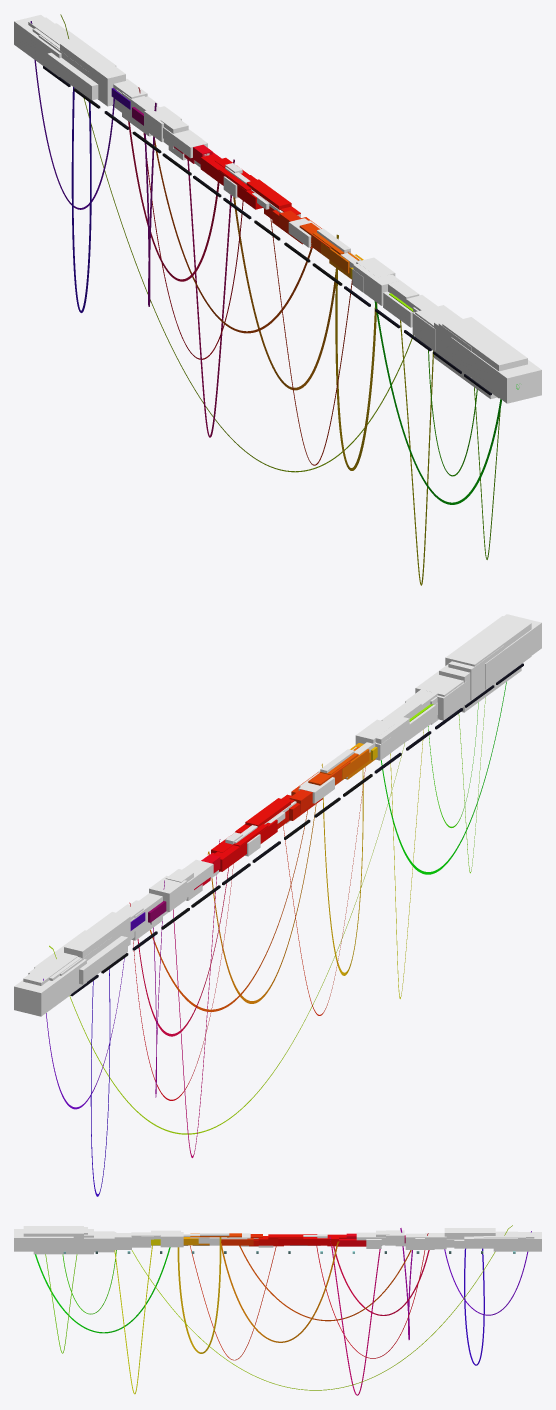
The model's file is Bridge_Baked_0.fbx.
The picture shows the model from 3 angles, top to bottom: view 1: azimuth 30°, elevation 25°; view 2: azimuth 150°, elevation 25°; view 3: azimuth 270°, elevation 25°; orthographic projection. The views are drawn at different scales.
Visible parts, largest first — view 1: Base, Cables, Crystals, Frames; view 2: Base, Cables, Crystals, Frames; view 3: Base, Cables, Crystals.
Boxes of the visible parts, box(x1,y1,x2,y2) form: Base: box(14, 15, 541, 403); Cables: box(30, 14, 501, 585); Crystals: box(111, 88, 519, 389); Frames: box(43, 66, 491, 395); Base: box(14, 614, 541, 1016); Cables: box(43, 682, 506, 1196); Crystals: box(130, 704, 433, 930); Frames: box(70, 663, 523, 996); Base: box(14, 1226, 541, 1254); Cables: box(35, 1225, 531, 1395); Crystals: box(151, 1233, 405, 1246).
Bounding box in the file's own units: 128 × 1035 × 2920.
